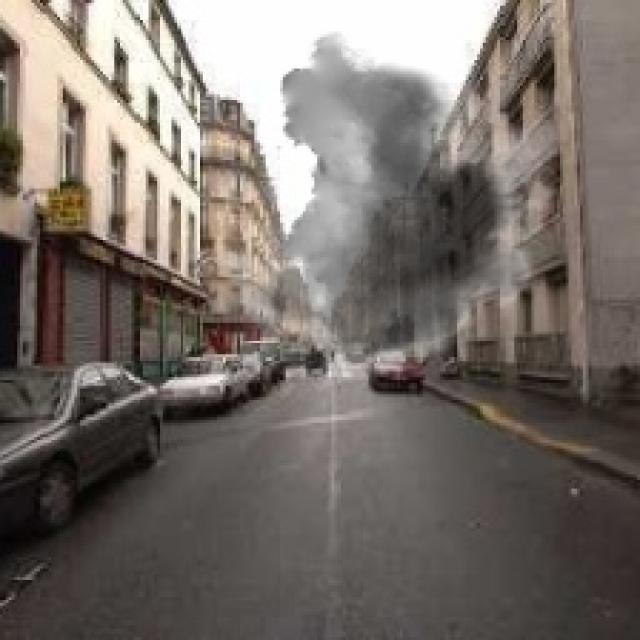smoke: (171, 32, 580, 397)
